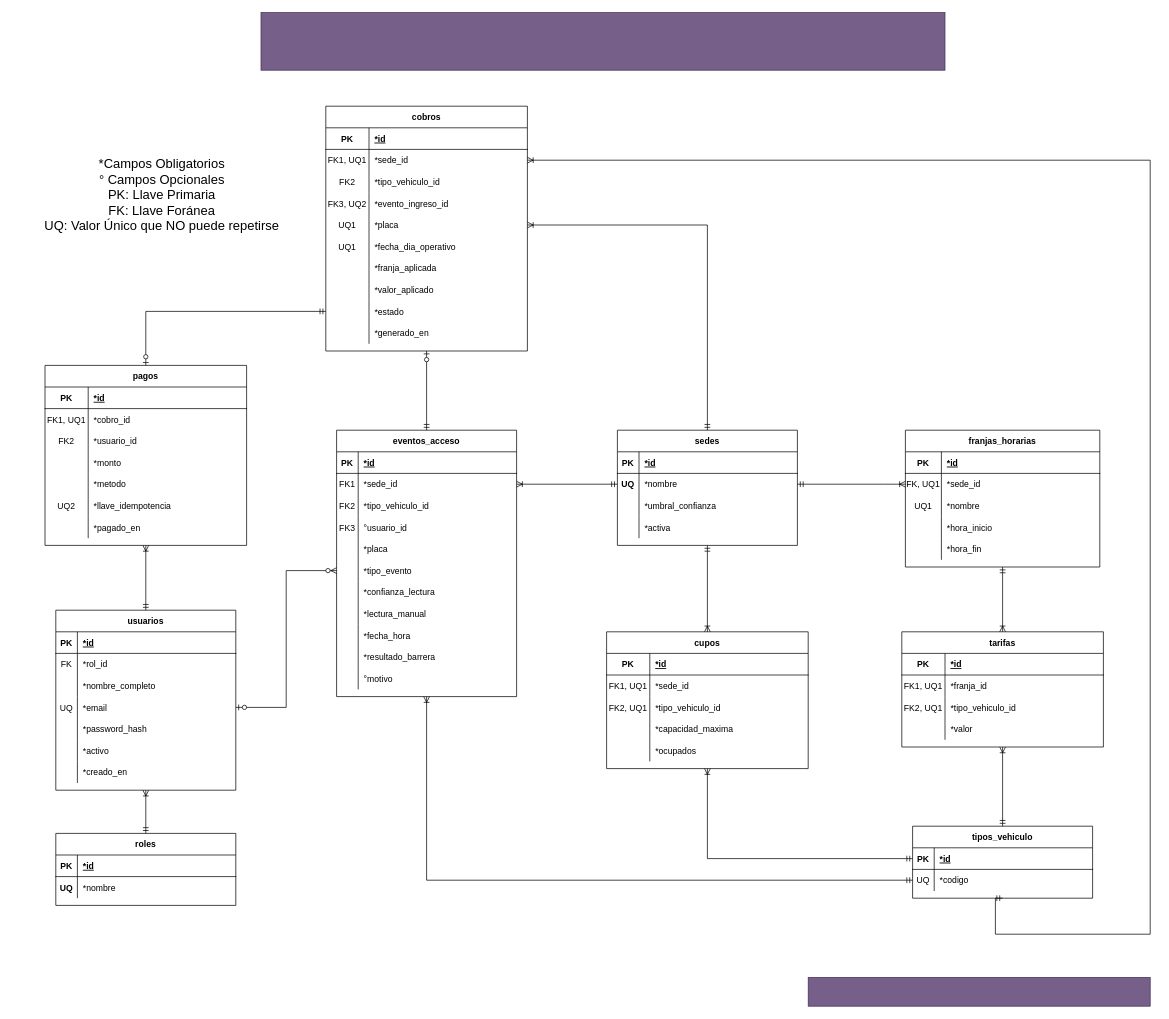
Image size: 1169x1019. Some labels were removed from this diagram. Each missing label, with the centre of its shape:
Diagrama Entidad Relación Sistema de Parqueadero Automatizado: the point at 602,41
Elaborado por: María Camila Méndez Ramírez: the point at 978,991
